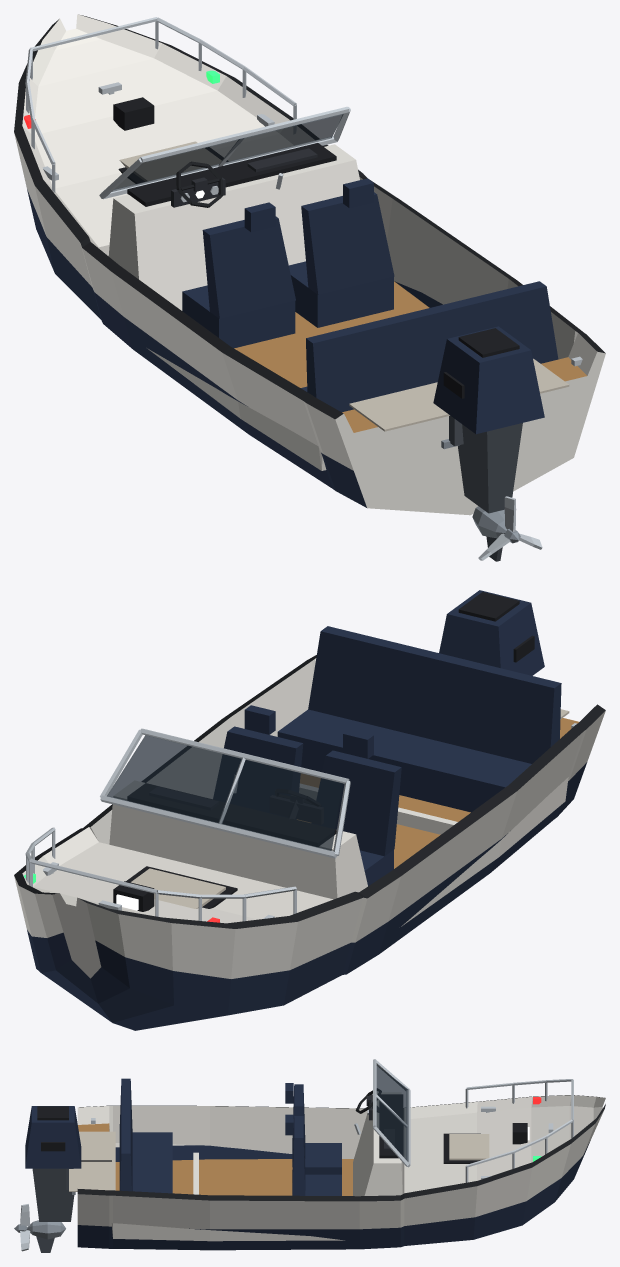
Rendered from speedboat.glb.
3 views of the same model, one above another, from view 1: azimuth 30°, elevation 25°; view 2: azimuth 150°, elevation 25°; view 3: azimuth 270°, elevation 25° (orthographic). The views are drawn at different scales.
Visible parts, largest first — view 1: Body, Windshield, Prop; view 2: Body, Windshield; view 3: Body, Windshield, Prop.
Part boxes in pixels (x1,y1,x2,y2): Body: (14, 14, 605, 561); Windshield: (99, 106, 350, 199); Prop: (478, 496, 542, 560); Body: (14, 590, 605, 1030); Windshield: (100, 728, 350, 858); Body: (25, 1078, 605, 1252); Windshield: (373, 1059, 410, 1167); Prop: (14, 1204, 30, 1251).
Size of the model in its own units: 2.4 by 1.89 by 6.34.
